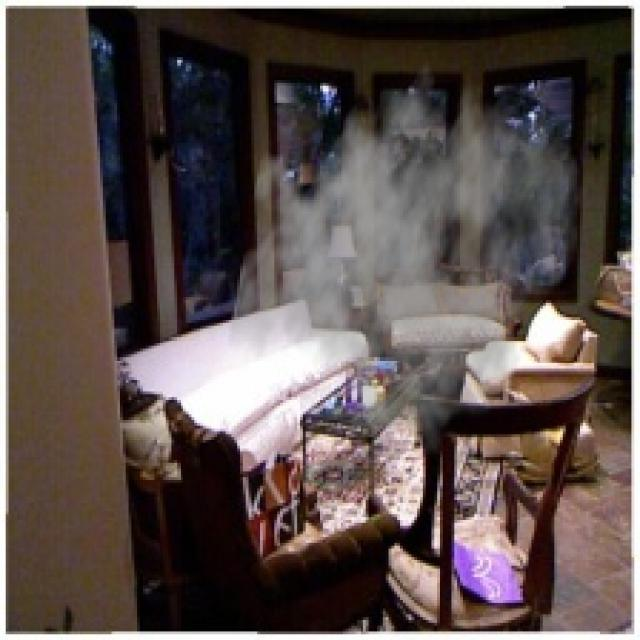Smoke: (225, 43, 586, 460)
